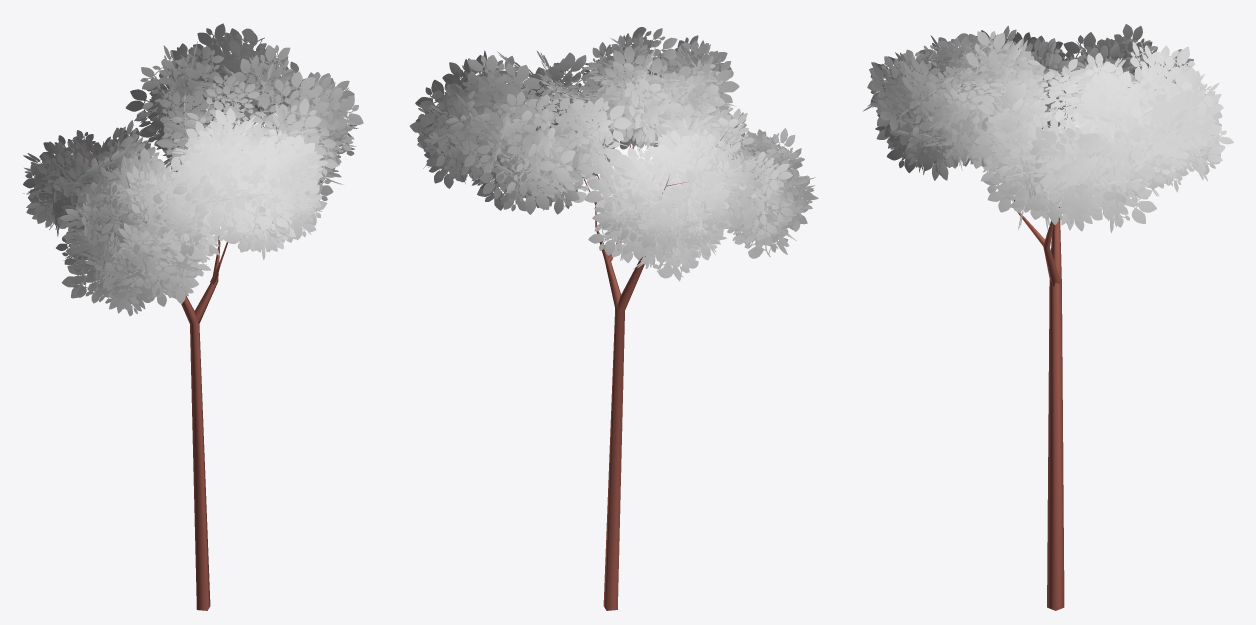
File: TallTree1.fbx
The picture shows the model from 3 angles, left to right: view 1: azimuth 30°, elevation 25°; view 2: azimuth 150°, elevation 25°; view 3: azimuth 270°, elevation 25°; orthographic projection. The views are drawn at different scales.
Visible parts, largest first — view 1: LeafInd.004, LeafInd.001, LeafInd.003, LeafInd.002, TrunkRainForest; view 2: LeafInd.004, LeafInd.002, LeafInd.001, LeafInd.003, TrunkRainForest; view 3: LeafInd.004, LeafInd.003, TrunkRainForest, LeafInd.002, LeafInd.001.
Part boxes in pixels (x1=…): LeafInd.004: x1=125, y1=23, x2=363, y2=210; LeafInd.001: x1=56, y1=148, x2=221, y2=316; LeafInd.003: x1=167, y1=107, x2=328, y2=260; LeafInd.002: x1=23, y1=120, x2=163, y2=236; TrunkRainForest: x1=80, y1=146, x2=227, y2=610; LeafInd.004: x1=409, y1=50, x2=631, y2=214; LeafInd.002: x1=584, y1=143, x2=731, y2=281; LeafInd.001: x1=651, y1=94, x2=818, y2=258; LeafInd.003: x1=579, y1=27, x2=739, y2=149; TrunkRainForest: x1=556, y1=115, x2=726, y2=610; LeafInd.004: x1=974, y1=42, x2=1233, y2=232; LeafInd.003: x1=863, y1=31, x2=1047, y2=180; TrunkRainForest: x1=1013, y1=37, x2=1129, y2=610; LeafInd.002: x1=1058, y1=24, x2=1205, y2=108; LeafInd.001: x1=932, y1=25, x2=1080, y2=168.
Bounding box in the file's own units: 1070 × 1566 × 939.
